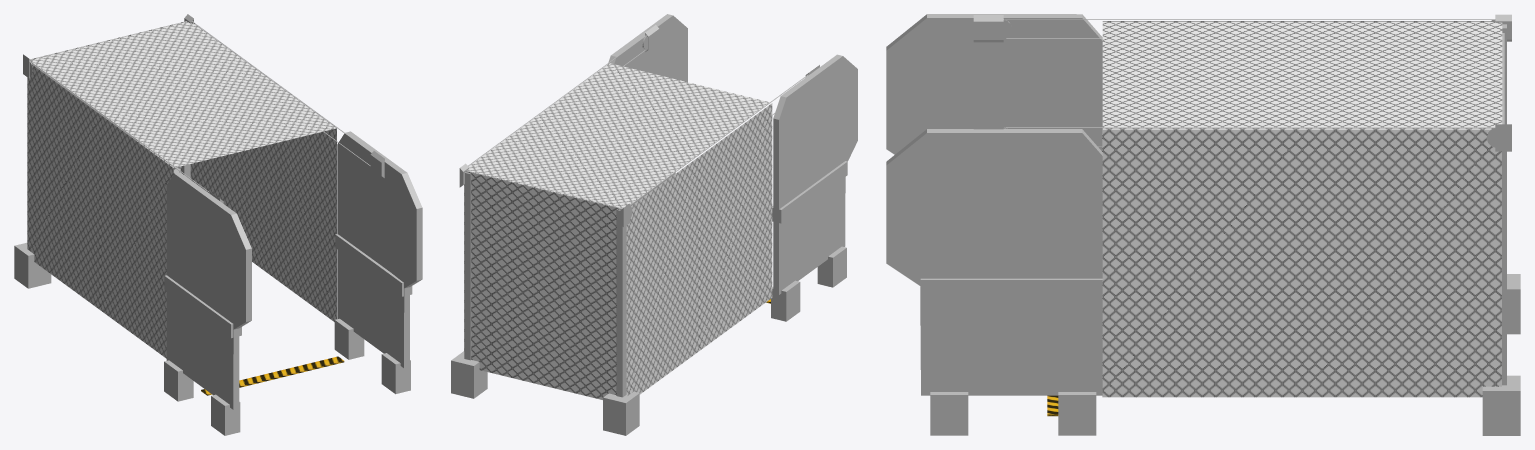
Rendered from LanzamientoHacha.obj.
3 renders of one model, left to right at view 1: azimuth 30°, elevation 25°; view 2: azimuth 150°, elevation 25°; view 3: azimuth 270°, elevation 25°, orthographic. The views are drawn at different scales.
Parts seen in each view (by area): view 1: Grade001, Grade007, BoothWall, BoothTable, Grade006, Single_Target, Box001, Object; view 2: Grade001, Grade, Grade007, BoothWall, Single_Target, BoothTable, Object, Grade006; view 3: Grade006, BoothTable, Grade007, BoothWall, Single_Target, Object, Moving_Target_Rails, Object005, Grade001.
Part boxes in pixels (bbox=[...]): Grade001: bbox=[27, 64, 173, 358]; Grade007: bbox=[31, 22, 335, 167]; BoothWall: bbox=[164, 172, 251, 435]; BoothTable: bbox=[334, 131, 422, 394]; Grade006: bbox=[190, 25, 336, 321]; Single_Target: bbox=[14, 64, 190, 288]; Box001: bbox=[201, 356, 344, 395]; Object: bbox=[30, 21, 371, 192]; Grade001: bbox=[626, 103, 772, 396]; Grade: bbox=[465, 171, 621, 399]; Grade007: bbox=[467, 63, 769, 208]; BoothWall: bbox=[771, 54, 857, 321]; Single_Target: bbox=[451, 171, 639, 435]; BoothTable: bbox=[608, 14, 687, 208]; Object: bbox=[468, 36, 806, 205]; Grade006: bbox=[464, 63, 609, 356]; Grade006: bbox=[1102, 130, 1501, 397]; BoothTable: bbox=[886, 129, 1102, 435]; Grade007: bbox=[1102, 22, 1502, 129]; BoothWall: bbox=[886, 14, 1102, 154]; Single_Target: bbox=[1482, 24, 1520, 435]; Object: bbox=[1006, 19, 1495, 147]; Moving_Target_Rails: bbox=[973, 15, 1012, 129]; Object005: bbox=[1486, 14, 1511, 151]; Grade001: bbox=[1102, 21, 1490, 129].
Bounding box in the file's own units: 10.15 × 11.74 × 21.93.
